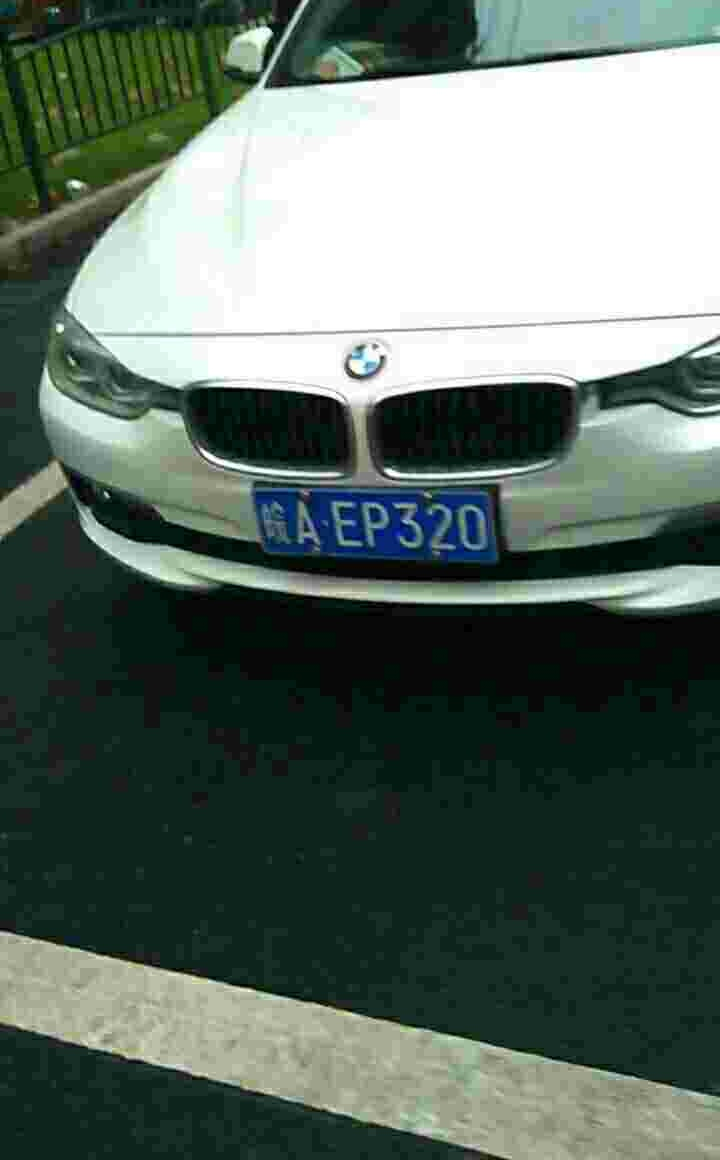plate: (248, 483, 504, 565)
